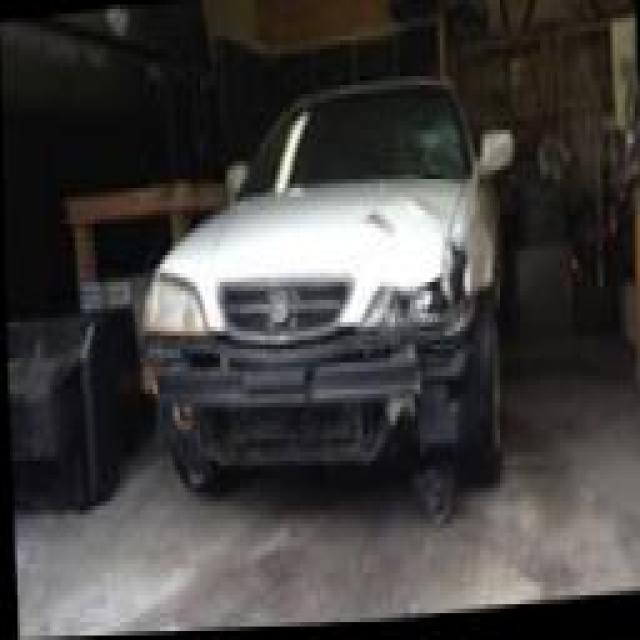Bonnet: (330, 181, 455, 293)
Bumper: (142, 324, 471, 485)
Fender: (449, 183, 500, 299)
Light: (357, 237, 475, 341)
Windshield: (371, 85, 469, 173)
